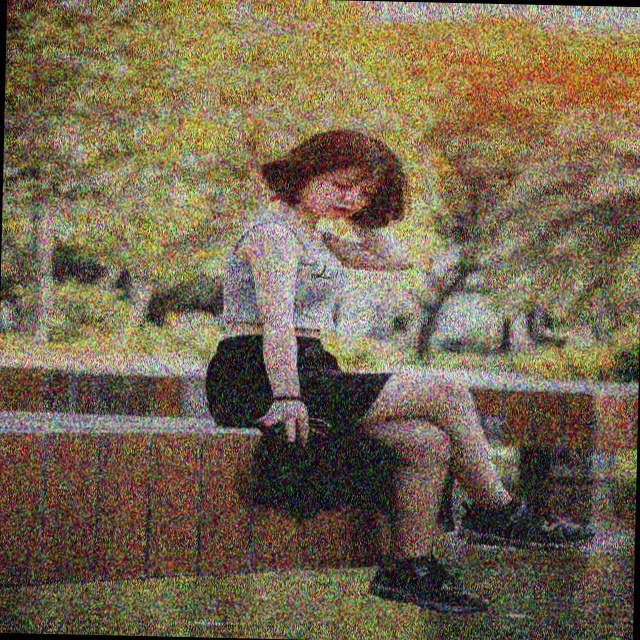Crop_Top: (210, 265, 348, 342)
Miniskirt: (205, 332, 505, 504)
Sleeveless: (243, 221, 299, 265)
